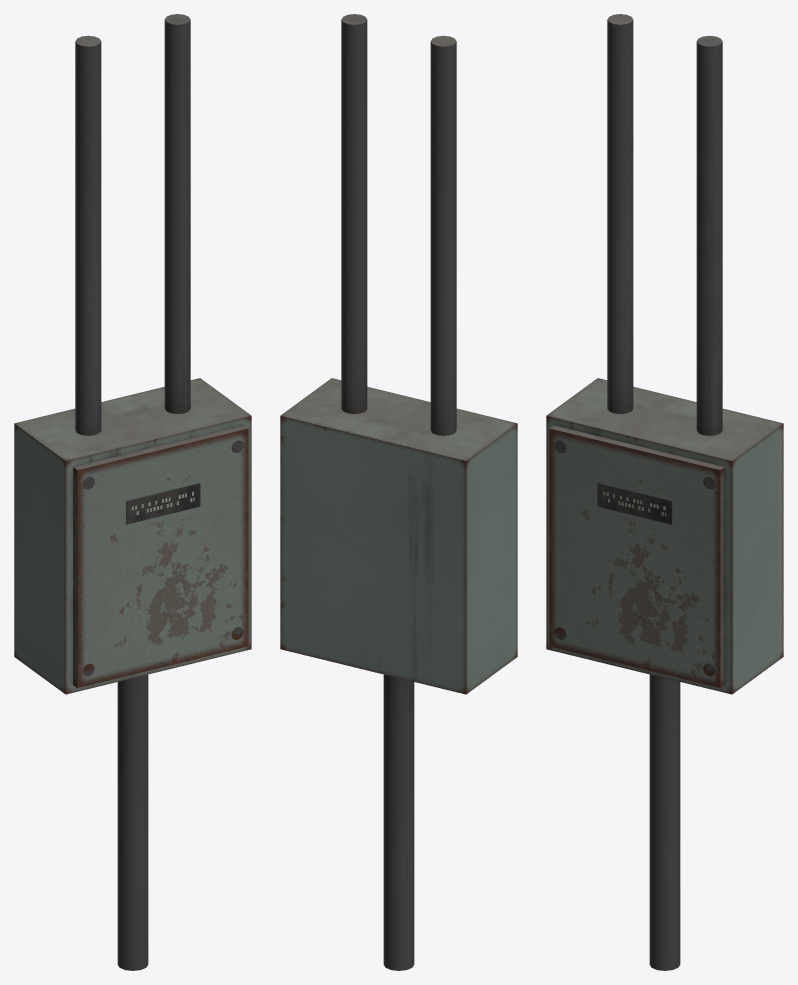
File: SM_JunctionBox.fbx
The picture shows the model from 3 angles, left to right: view 1: azimuth 30°, elevation 25°; view 2: azimuth 150°, elevation 25°; view 3: azimuth 330°, elevation 25°; orthographic projection.
Visible parts, largest first — view 1: SM_JunctionBox; view 2: SM_JunctionBox; view 3: SM_JunctionBox.
Part boxes in pixels (x1,y1,x2,y2): SM_JunctionBox: [14, 14, 251, 970]; SM_JunctionBox: [280, 14, 517, 970]; SM_JunctionBox: [546, 14, 783, 970].
Size of the model in its own units: 0.25 by 1.2 by 0.1305.
Materials: 1 (1 with a texture image).
